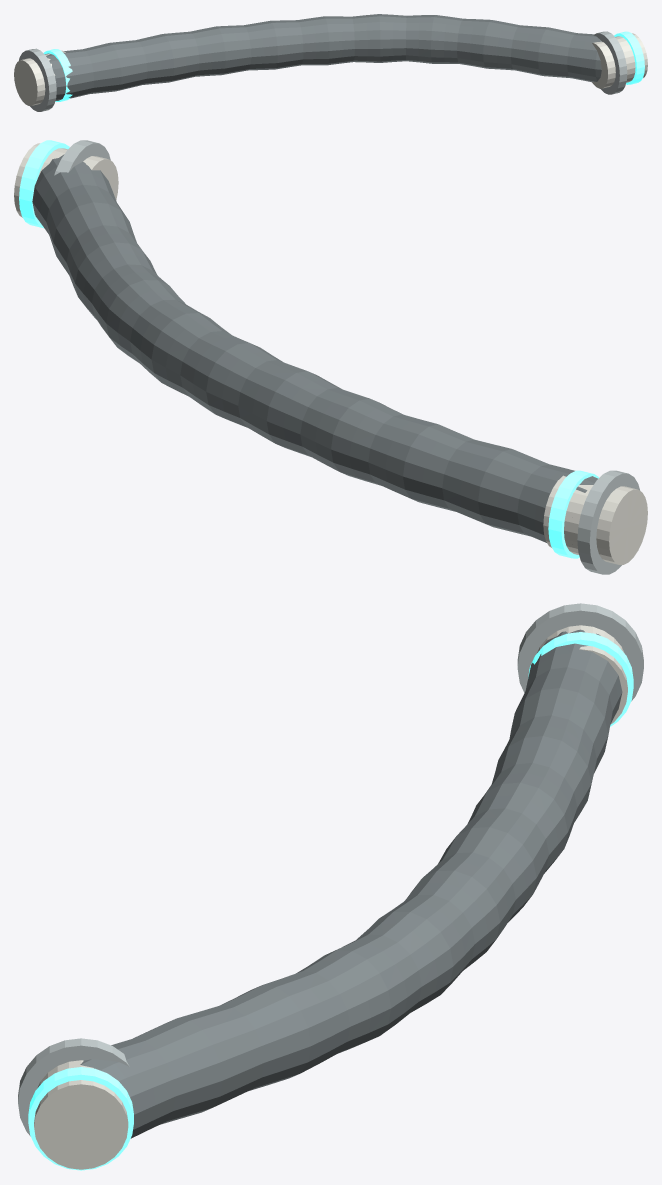
Rendered from s7-i03-hose-bend-45.glb.
3 renders of one model, top to bottom at view 1: azimuth 30°, elevation 25°; view 2: azimuth 150°, elevation 25°; view 3: azimuth 270°, elevation 25°, orthographic. The views are drawn at different scales.
Visible parts, largest first — view 1: 000_actual_curved_hose_swept_3d, 004_end_1_sealing_socket, 001_end_0_sealing_socket, 003_end_0_locking_collar, 006_end_1_locking_collar, 005_end_1_cyan_snap_seal, 002_end_0_cyan_snap_seal; view 2: 000_actual_curved_hose_swept_3d, 001_end_0_sealing_socket, 003_end_0_locking_collar, 002_end_0_cyan_snap_seal, 005_end_1_cyan_snap_seal, 004_end_1_sealing_socket, 006_end_1_locking_collar; view 3: 000_actual_curved_hose_swept_3d, 004_end_1_sealing_socket, 003_end_0_locking_collar, 006_end_1_locking_collar, 005_end_1_cyan_snap_seal, 002_end_0_cyan_snap_seal, 001_end_0_sealing_socket.
Boxes of the visible parts, <box> form: 000_actual_curved_hose_swept_3d: <box>45,14,615,100</box>; 004_end_1_sealing_socket: <box>592,33,647,88</box>; 001_end_0_sealing_socket: <box>14,50,65,105</box>; 003_end_0_locking_collar: <box>19,48,56,111</box>; 006_end_1_locking_collar: <box>593,31,627,94</box>; 005_end_1_cyan_snap_seal: <box>614,31,644,84</box>; 002_end_0_cyan_snap_seal: <box>43,49,72,101</box>; 000_actual_curved_hose_swept_3d: <box>32,154,597,542</box>; 001_end_0_sealing_socket: <box>543,475,647,564</box>; 003_end_0_locking_collar: <box>577,470,640,574</box>; 002_end_0_cyan_snap_seal: <box>548,470,598,558</box>; 005_end_1_cyan_snap_seal: <box>19,140,69,228</box>; 004_end_1_sealing_socket: <box>14,143,118,217</box>; 006_end_1_locking_collar: <box>54,140,110,175</box>; 000_actual_curved_hose_swept_3d: <box>80,629,622,1138</box>; 004_end_1_sealing_socket: <box>34,1060,128,1169</box>; 003_end_0_locking_collar: <box>517,603,643,701</box>; 006_end_1_locking_collar: <box>18,1038,129,1136</box>; 005_end_1_cyan_snap_seal: <box>28,1067,133,1170</box>; 002_end_0_cyan_snap_seal: <box>528,632,633,726</box>; 001_end_0_sealing_socket: <box>537,625,627,724</box>.
Bounding box in the file's own units: 0.8288 × 0.0935 × 0.4628.
